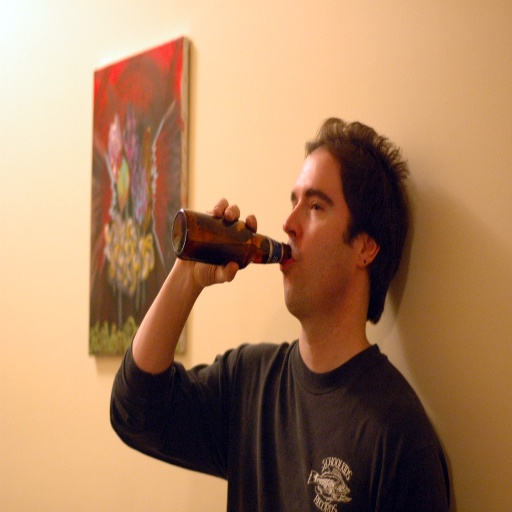hand: (174, 214, 286, 286)
